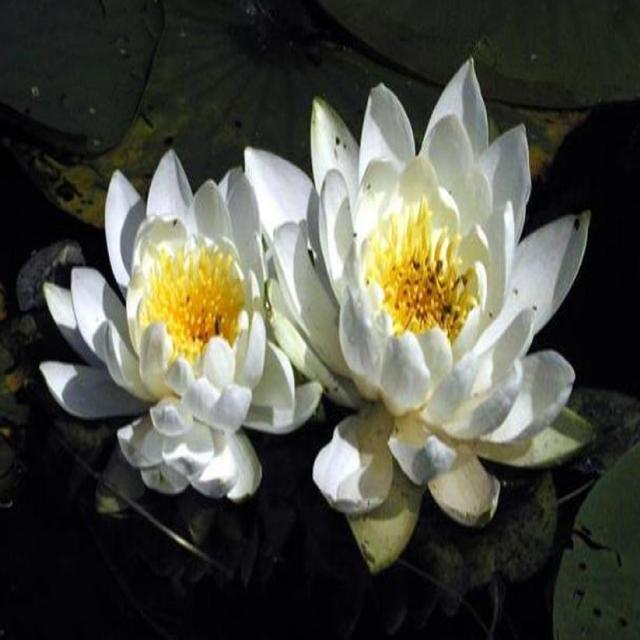rose: (28, 36, 618, 589)
